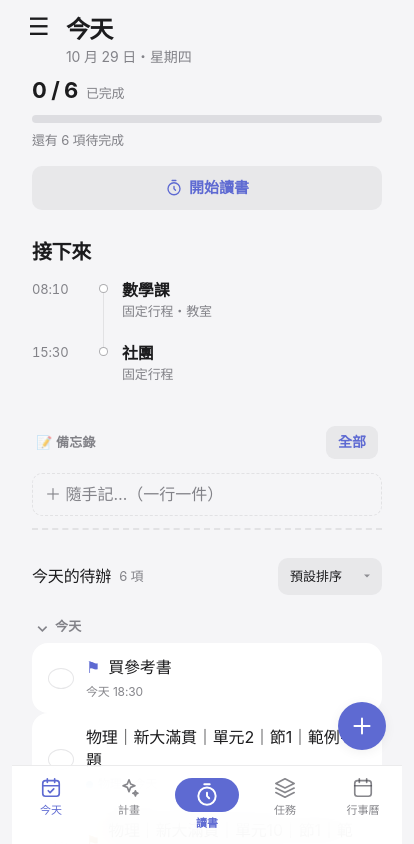
Test: 正式 Plan（API） › /plans 的計畫會顯示出來，用的是 Plan 的名稱而不是科目名
Expected: the heading "今天" is shown, [66,15,113,44]
Expected: the text "買參考書" is shown, [108,657,172,677]
Click the button "計畫". click: (129, 805)
box: [90,766,168,843]
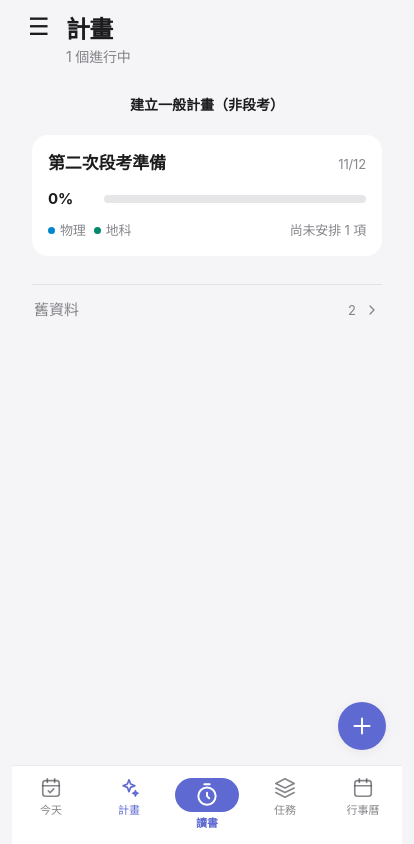
Expected: the text "第二次段考準備" is shown, [48,151,166,176]
